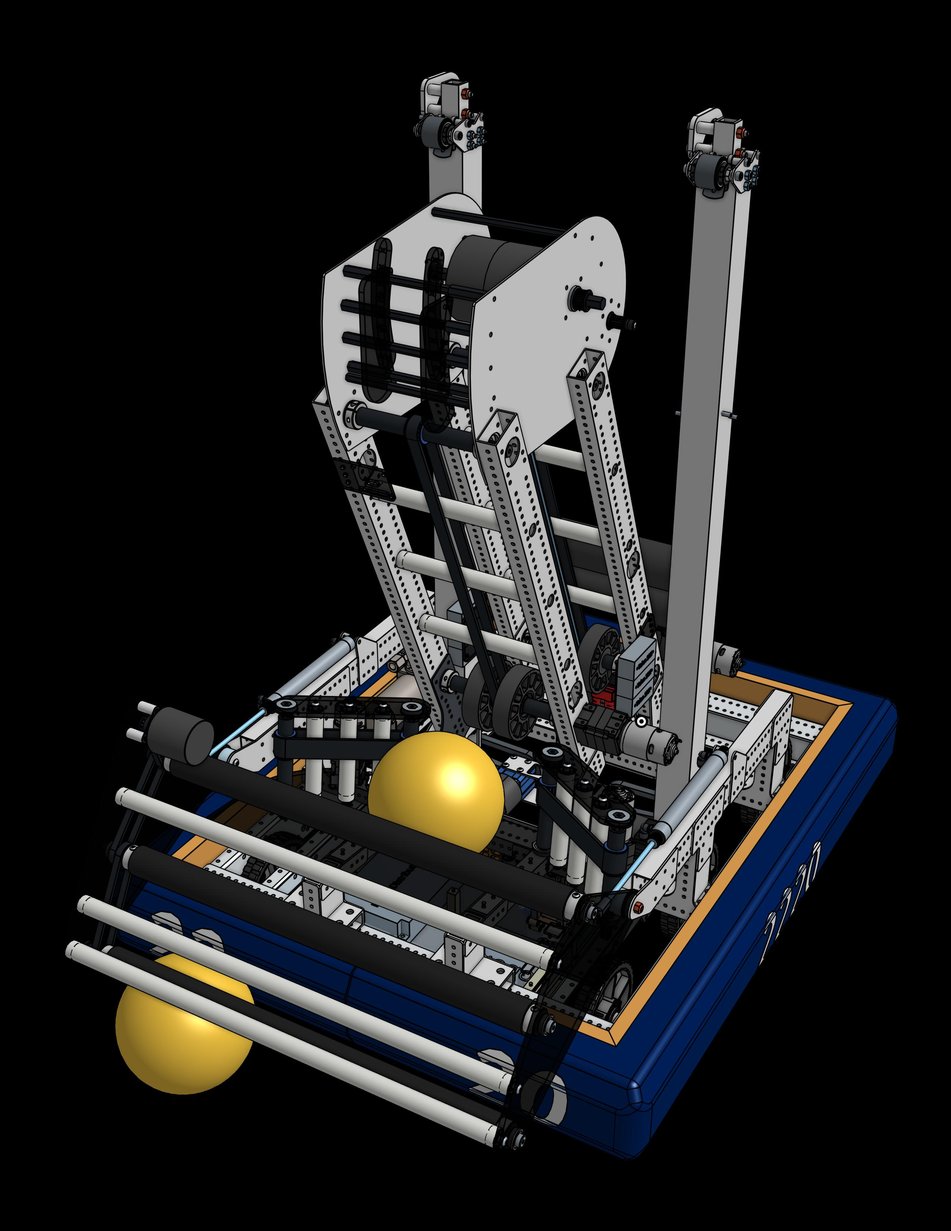robot: (58, 67, 904, 1167)
